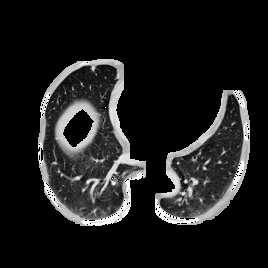PN: (91, 66, 95, 70)
